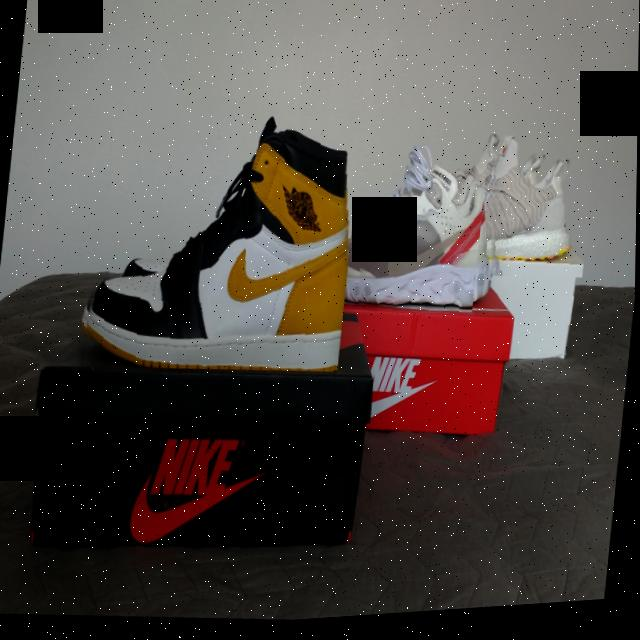shoe: (78, 82, 365, 390), (347, 131, 490, 325), (480, 118, 598, 291)
